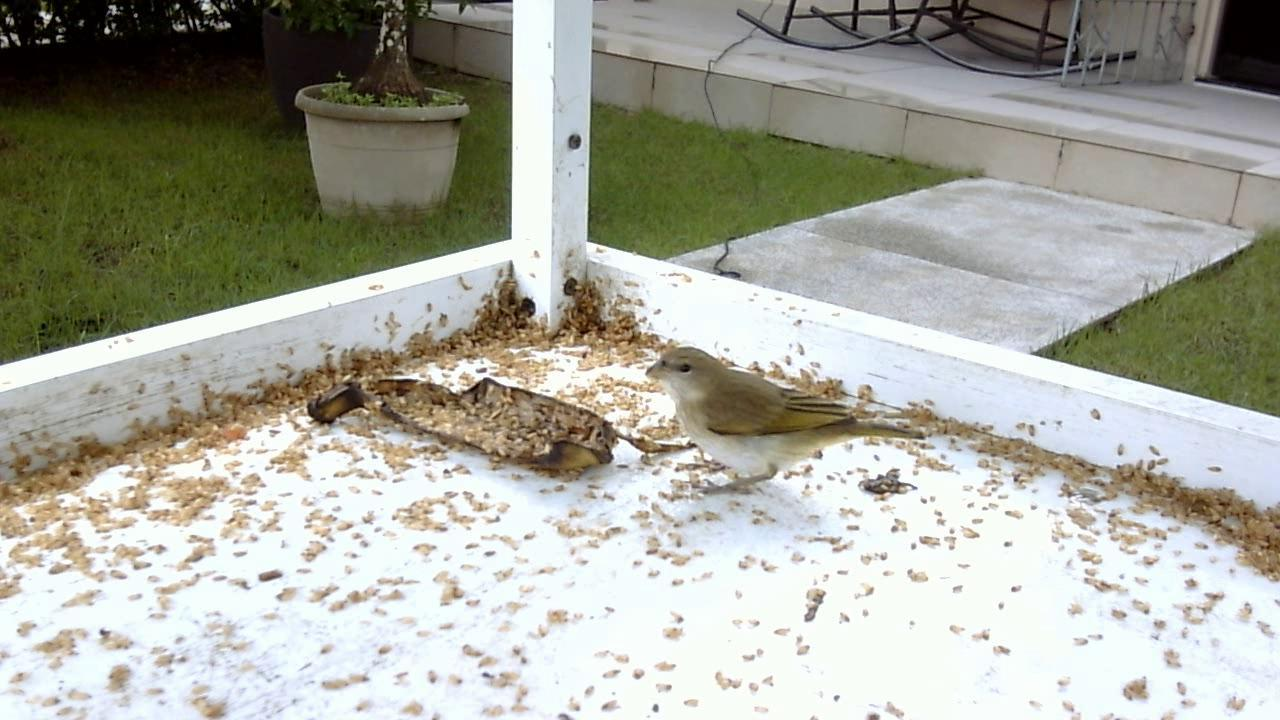canario_do_amazonas: (632, 341, 950, 507)
